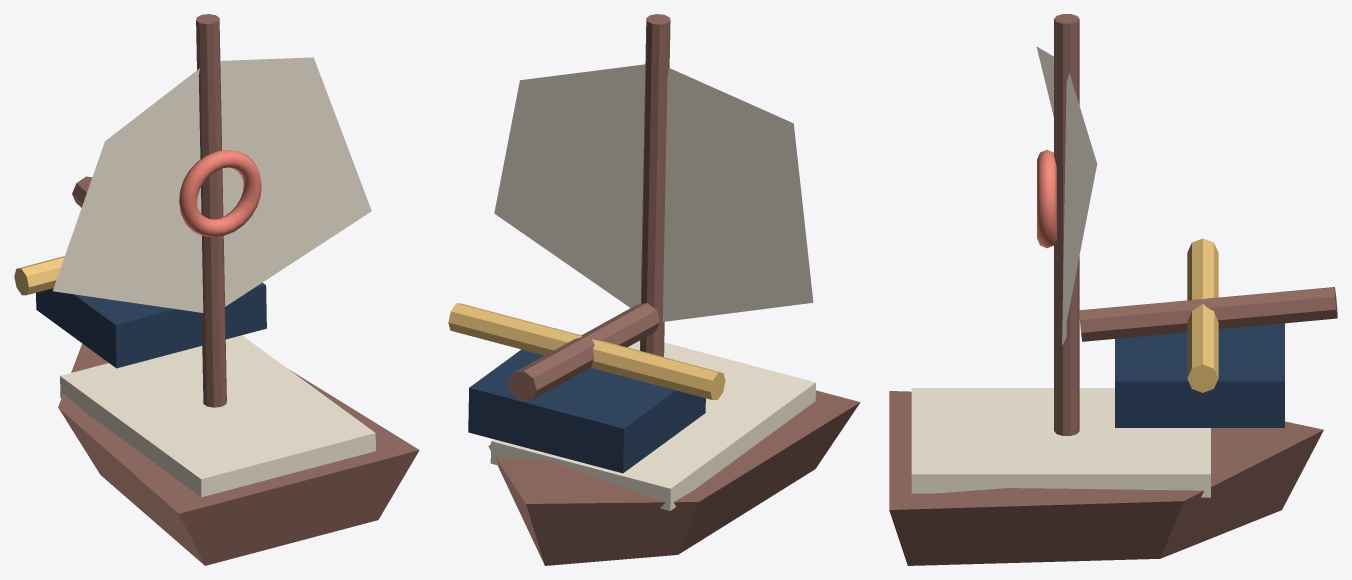
File: bomber.glb
3 views of the same model, side by side, from view 1: azimuth 30°, elevation 25°; view 2: azimuth 150°, elevation 25°; view 3: azimuth 270°, elevation 25° (orthographic). The views are drawn at different scales.
Parts seen in each view (by area): view 1: Distinctive sail, Pearl deck, Carved hull, Ballista platform, Mast, Crown shell emblem, Ballista arm; view 2: Distinctive sail, Carved hull, Ballista platform, Pearl deck, Ballista arm, Mast, Ballista rail; view 3: Carved hull, Pearl deck, Ballista platform, Ballista rail, Mast, Distinctive sail, Ballista arm, Crown shell emblem.
Boxes of the visible parts, x1=… form: Distinctive sail: x1=53, y1=57, x2=371, y2=312; Pearl deck: x1=60, y1=335, x2=375, y2=497; Carved hull: x1=58, y1=343, x2=419, y2=565; Ballista platform: x1=36, y1=282, x2=266, y2=368; Mast: x1=196, y1=14, x2=226, y2=407; Crown shell emblem: x1=179, y1=150, x2=261, y2=236; Ballista arm: x1=14, y1=256, x2=64, y2=295; Distinctive sail: x1=494, y1=64, x2=813, y2=321; Carved hull: x1=488, y1=390, x2=860, y2=565; Ballista platform: x1=468, y1=349, x2=705, y2=473; Pearl deck: x1=490, y1=340, x2=815, y2=510; Ballista arm: x1=448, y1=303, x2=725, y2=399; Mast: x1=640, y1=14, x2=670, y2=356; Ballista rail: x1=508, y1=303, x2=659, y2=401; Carved hull: x1=889, y1=391, x2=1323, y2=565; Pearl deck: x1=911, y1=388, x2=1210, y2=497; Ballista platform: x1=1115, y1=323, x2=1284, y2=427; Ballista rail: x1=1079, y1=287, x2=1337, y2=341; Mast: x1=1054, y1=14, x2=1079, y2=435; Distinctive sail: x1=1036, y1=47, x2=1096, y2=345; Ballista arm: x1=1187, y1=238, x2=1218, y2=392; Crown shell emblem: x1=1037, y1=150, x2=1056, y2=248.
Size of the model in its own units: 1.36 by 1.95 by 1.58.
